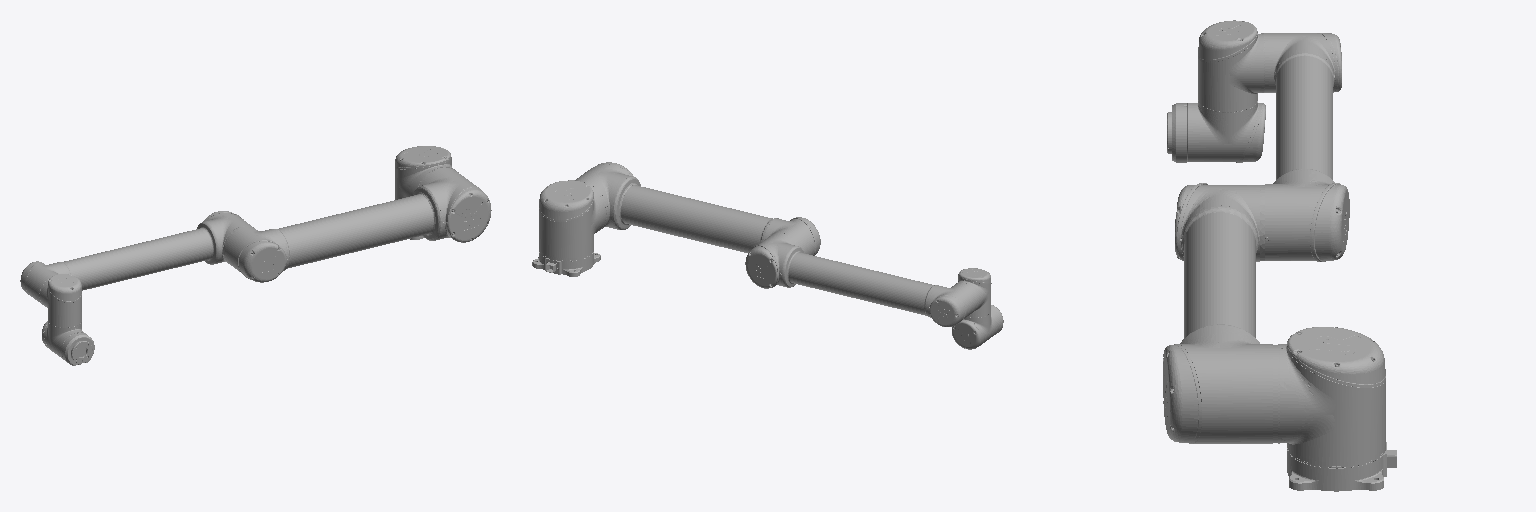
robot.urdf — ur10_robot:
<?xml version="1.0" encoding="utf-8"?>
<robot name="ur10_robot">
  <link name="base_link"/>
  <link name="base_link_inertia">
    <visual>
      <origin xyz="0.0 0.0 0.0" rpy="0.0 0.0 3.141592653589793"/>
      <geometry>
        <mesh filename="package://ur_description/meshes/ur10/visual/base.dae.obj"/>
      </geometry>
      <material name="LightGrey">
        <color rgba="0.7 0.7 0.7 1.0"/>
      </material>
    </visual>
    <collision>
      <origin xyz="0.0 0.0 0.0" rpy="0.0 0.0 3.141592653589793"/>
      <geometry>
        <mesh filename="package://ur_description/meshes/ur10/collision/base.stl"/>
      </geometry>
    </collision>
    <inertial>
      <origin xyz="0.0 0.0 0.0" rpy="0.0 0.0 0.0"/>
      <mass value="4.0"/>
      <inertia ixx="0.0061063308908" ixy="0.0" ixz="0.0" iyy="0.0061063308908" iyz="0.0" izz="0.01125"/>
    </inertial>
  </link>
  <link name="shoulder_link">
    <visual>
      <origin xyz="0.0 0.0 0.0" rpy="0.0 0.0 3.141592653589793"/>
      <geometry>
        <mesh filename="package://ur_description/meshes/ur10/visual/shoulder.dae.obj"/>
      </geometry>
      <material name="LightGrey">
        <color rgba="0.7 0.7 0.7 1.0"/>
      </material>
    </visual>
    <collision>
      <origin xyz="0.0 0.0 0.0" rpy="0.0 0.0 3.141592653589793"/>
      <geometry>
        <mesh filename="package://ur_description/meshes/ur10/collision/shoulder.stl"/>
      </geometry>
    </collision>
    <inertial>
      <origin xyz="0.0 0.0 0.0" rpy="0.0 0.0 0.0"/>
      <mass value="7.778"/>
      <inertia ixx="0.03147431257693659" ixy="0.0" ixz="0.0" iyy="0.03147431257693659" iyz="0.0" izz="0.021875624999999996"/>
    </inertial>
  </link>
  <link name="upper_arm_link">
    <visual>
      <origin xyz="0.0 0.0 0.220941" rpy="1.5707963267948966 0.0 -1.5707963267948966"/>
      <geometry>
        <mesh filename="package://ur_description/meshes/ur10/visual/upperarm.dae.obj"/>
      </geometry>
      <material name="LightGrey">
        <color rgba="0.7 0.7 0.7 1.0"/>
      </material>
    </visual>
    <collision>
      <origin xyz="0.0 0.0 0.220941" rpy="1.5707963267948966 0.0 -1.5707963267948966"/>
      <geometry>
        <mesh filename="package://ur_description/meshes/ur10/collision/upperarm.stl"/>
      </geometry>
    </collision>
    <inertial>
      <origin xyz="-0.306 0.0 0.175" rpy="0.0 1.5707963267948966 0.0"/>
      <mass value="12.93"/>
      <inertia ixx="0.42175380379841093" ixy="0.0" ixz="0.0" iyy="0.42175380379841093" iyz="0.0" izz="0.03636562499999999"/>
    </inertial>
  </link>
  <link name="forearm_link">
    <visual>
      <origin xyz="0.0 0.0 0.049042" rpy="1.5707963267948966 0.0 -1.5707963267948966"/>
      <geometry>
        <mesh filename="package://ur_description/meshes/ur10/visual/forearm.dae.obj"/>
      </geometry>
      <material name="LightGrey">
        <color rgba="0.7 0.7 0.7 1.0"/>
      </material>
    </visual>
    <collision>
      <origin xyz="0.0 0.0 0.049042" rpy="1.5707963267948966 0.0 -1.5707963267948966"/>
      <geometry>
        <mesh filename="package://ur_description/meshes/ur10/collision/forearm.stl"/>
      </geometry>
    </collision>
    <inertial>
      <origin xyz="-0.28615 0.0 0.049042" rpy="0.0 1.5707963267948966 0.0"/>
      <mass value="3.87"/>
      <inertia ixx="0.11106969409710458" ixy="0.0" ixz="0.0" iyy="0.11106969409710458" iyz="0.0" izz="0.010884375"/>
    </inertial>
  </link>
  <link name="wrist_1_link">
    <visual>
      <origin xyz="0.0 0.0 -0.1149" rpy="1.5707963267948966 0.0 0.0"/>
      <geometry>
        <mesh filename="package://ur_description/meshes/ur10/visual/wrist1.dae.obj"/>
      </geometry>
      <material name="LightGrey">
        <color rgba="0.7 0.7 0.7 1.0"/>
      </material>
    </visual>
    <collision>
      <origin xyz="0.0 0.0 -0.1149" rpy="1.5707963267948966 0.0 0.0"/>
      <geometry>
        <mesh filename="package://ur_description/meshes/ur10/collision/wrist1.stl"/>
      </geometry>
    </collision>
    <inertial>
      <origin xyz="0.0 0.0 0.0" rpy="0.0 0.0 0.0"/>
      <mass value="1.96"/>
      <inertia ixx="0.005108247956699999" ixy="0.0" ixz="0.0" iyy="0.005108247956699999" iyz="0.0" izz="0.005512499999999999"/>
    </inertial>
  </link>
  <link name="wrist_2_link">
    <visual>
      <origin xyz="0.0 0.0 -0.1158" rpy="0.0 0.0 0.0"/>
      <geometry>
        <mesh filename="package://ur_description/meshes/ur10/visual/wrist2.dae.obj"/>
      </geometry>
      <material name="LightGrey">
        <color rgba="0.7 0.7 0.7 1.0"/>
      </material>
    </visual>
    <collision>
      <origin xyz="0.0 0.0 -0.1158" rpy="0.0 0.0 0.0"/>
      <geometry>
        <mesh filename="package://ur_description/meshes/ur10/collision/wrist2.stl"/>
      </geometry>
    </collision>
    <inertial>
      <origin xyz="0.0 0.0 0.0" rpy="0.0 0.0 0.0"/>
      <mass value="1.96"/>
      <inertia ixx="0.0040792483683" ixy="0.0" ixz="0.0" iyy="0.0040792483683" iyz="0.0" izz="0.005512499999999999"/>
    </inertial>
  </link>
  <link name="wrist_3_link">
    <visual>
      <origin xyz="0.0 0.0 -0.0922" rpy="1.5707963267948966 0.0 0.0"/>
      <geometry>
        <mesh filename="package://ur_description/meshes/ur10/visual/wrist3.dae.obj"/>
      </geometry>
      <material name="LightGrey">
        <color rgba="0.7 0.7 0.7 1.0"/>
      </material>
    </visual>
    <collision>
      <origin xyz="0.0 0.0 -0.0922" rpy="1.5707963267948966 0.0 0.0"/>
      <geometry>
        <mesh filename="package://ur_description/meshes/ur10/collision/wrist3.stl"/>
      </geometry>
    </collision>
    <inertial>
      <origin xyz="0.0 0.0 -0.01525" rpy="0.0 0.0 0.0"/>
      <mass value="0.202"/>
      <inertia ixx="0.00011792166116465" ixy="0.0" ixz="0.0" iyy="0.00011792166116465" iyz="0.0" izz="0.00020452500000000002"/>
    </inertial>
  </link>
  <link name="base"/>
  <link name="flange"/>
  <link name="tool0"/>
  <joint name="base_link-base_link_inertia" type="fixed">
    <parent link="base_link"/>
    <child link="base_link_inertia"/>
    <axis xyz="1.0 0.0 0.0"/>
    <origin xyz="0.0 0.0 0.0" rpy="0.0 0.0 0.0"/>
  </joint>
  <joint name="shoulder_pan_joint" type="revolute">
    <parent link="base_link_inertia"/>
    <child link="shoulder_link"/>
    <axis xyz="0.0 0.0 1.0"/>
    <dynamics damping="0.0" friction="0.0"/>
    <limit lower="-6.283185307179586" upper="6.283185307179586" effort="330.0" velocity="2.0943951023931953"/>
    <origin xyz="0.0 0.0 0.1273" rpy="0.0 0.0 0.0"/>
  </joint>
  <joint name="shoulder_lift_joint" type="revolute">
    <parent link="shoulder_link"/>
    <child link="upper_arm_link"/>
    <axis xyz="0.0 0.0 1.0"/>
    <dynamics damping="0.0" friction="0.0"/>
    <limit lower="-6.283185307179586" upper="6.283185307179586" effort="330.0" velocity="2.0943951023931953"/>
    <origin xyz="0.0 0.0 0.0" rpy="1.570796327 0.0 0.0"/>
  </joint>
  <joint name="elbow_joint" type="revolute">
    <parent link="upper_arm_link"/>
    <child link="forearm_link"/>
    <axis xyz="0.0 0.0 1.0"/>
    <dynamics damping="0.0" friction="0.0"/>
    <limit lower="-3.141592653589793" upper="3.141592653589793" effort="150.0" velocity="3.141592653589793"/>
    <origin xyz="-0.612 0.0 0.0" rpy="0.0 0.0 0.0"/>
  </joint>
  <joint name="wrist_1_joint" type="revolute">
    <parent link="forearm_link"/>
    <child link="wrist_1_link"/>
    <axis xyz="0.0 0.0 1.0"/>
    <dynamics damping="0.0" friction="0.0"/>
    <limit lower="-6.283185307179586" upper="6.283185307179586" effort="56.0" velocity="3.141592653589793"/>
    <origin xyz="-0.5723 0.0 0.163941" rpy="0.0 0.0 0.0"/>
  </joint>
  <joint name="wrist_2_joint" type="revolute">
    <parent link="wrist_1_link"/>
    <child link="wrist_2_link"/>
    <axis xyz="0.0 0.0 1.0"/>
    <dynamics damping="0.0" friction="0.0"/>
    <limit lower="-6.283185307179586" upper="6.283185307179586" effort="56.0" velocity="3.141592653589793"/>
    <origin xyz="0.0 -0.1157 -2.373046667922381e-11" rpy="1.570796327 0.0 0.0"/>
  </joint>
  <joint name="wrist_3_joint" type="revolute">
    <parent link="wrist_2_link"/>
    <child link="wrist_3_link"/>
    <axis xyz="0.0 0.0 1.0"/>
    <dynamics damping="0.0" friction="0.0"/>
    <limit lower="-6.283185307179586" upper="6.283185307179586" effort="56.0" velocity="3.141592653589793"/>
    <origin xyz="0.0 0.0922 -1.891053610911353e-11" rpy="-1.5707963270000003 1.2246467991473532e-16 -1.2246467991473532e-16"/>
  </joint>
  <joint name="base_link-base_fixed_joint" type="fixed">
    <parent link="base_link"/>
    <child link="base"/>
    <axis xyz="1.0 0.0 0.0"/>
    <origin xyz="0.0 0.0 0.0" rpy="0.0 0.0 3.141592653589793"/>
  </joint>
  <joint name="wrist_3-flange" type="fixed">
    <parent link="wrist_3_link"/>
    <child link="flange"/>
    <axis xyz="1.0 0.0 0.0"/>
    <origin xyz="0.0 0.0 0.0" rpy="1.5707963267948966 -1.5707963267948966 0.0"/>
  </joint>
  <joint name="flange-tool0" type="fixed">
    <parent link="flange"/>
    <child link="tool0"/>
    <axis xyz="1.0 0.0 0.0"/>
    <origin xyz="0.0 0.0 0.0" rpy="1.5707963267948966 0.0 1.5707963267948966"/>
  </joint>
  <transmission name="wrist_3_trans">
    <type>transmission_interface/SimpleTransmission</type>
    <joint name="wrist_3_joint">
      <hardwareInterface>hardware_interface/PositionJointInterface</hardwareInterface>
    </joint>
    <actuator name="wrist_3_motor">
      <mechanicalReduction>1</mechanicalReduction>
    </actuator>
  </transmission>
</robot>

--- Facts derived from the render (not from the file) ---
The picture shows the robot from 3 angles, left to right: view 1: azimuth 30°, elevation 25°; view 2: azimuth 150°, elevation 25°; view 3: azimuth 270°, elevation 25°; orthographic projection.
Robot: ur10_robot — 11 links, 10 joints (6 revolute, 4 fixed); root link base_link; default pose: every joint at zero.
Visible links, largest first — view 1: upper_arm_link, forearm_link, shoulder_link, wrist_1_link, wrist_3_link, wrist_2_link; view 2: upper_arm_link, forearm_link, shoulder_link, wrist_2_link, wrist_1_link, base_link_inertia; view 3: upper_arm_link, forearm_link, shoulder_link, wrist_1_link, wrist_2_link, base_link_inertia, wrist_3_link.
Boxes of the visible links, <box> form: upper_arm_link: <box>225,167,491,282</box>; forearm_link: <box>20,211,253,304</box>; shoulder_link: <box>395,146,458,199</box>; wrist_1_link: <box>40,274,81,327</box>; wrist_3_link: <box>62,332,94,365</box>; wrist_2_link: <box>42,321,85,359</box>; upper_arm_link: <box>575,162,820,255</box>; forearm_link: <box>745,233,978,326</box>; shoulder_link: <box>539,180,605,261</box>; wrist_2_link: <box>952,308,999,349</box>; wrist_1_link: <box>956,268,991,317</box>; base_link_inertia: <box>532,252,600,276</box>; upper_arm_link: <box>1163,148,1279,443</box>; forearm_link: <box>1260,33,1349,261</box>; shoulder_link: <box>1280,327,1385,468</box>; wrist_1_link: <box>1198,20,1263,112</box>; wrist_2_link: <box>1187,101,1265,162</box>; base_link_inertia: <box>1287,442,1396,491</box>; wrist_3_link: <box>1167,103,1186,162</box>.
Bounding box of the posed robot: 1.31 × 0.3552 × 0.2634 m (x, y, z).
7 mesh visuals loaded from 7 distinct referenced files (7 OBJ).